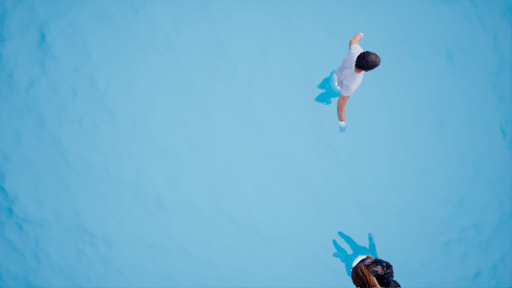person: (326, 34, 392, 116), (331, 210, 392, 288)
